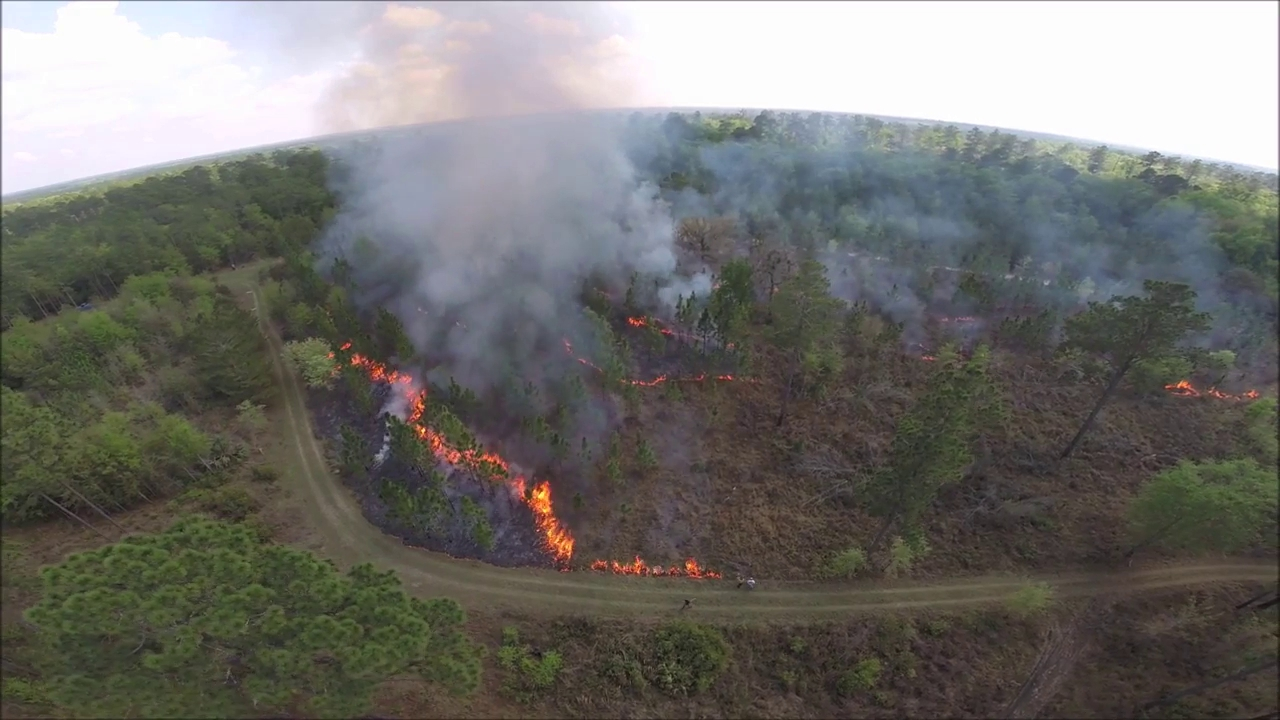forest_fire: (347, 353, 573, 571), (588, 555, 720, 578), (1159, 379, 1259, 399), (627, 317, 683, 337), (339, 341, 350, 351), (584, 360, 589, 364), (566, 340, 567, 345)
